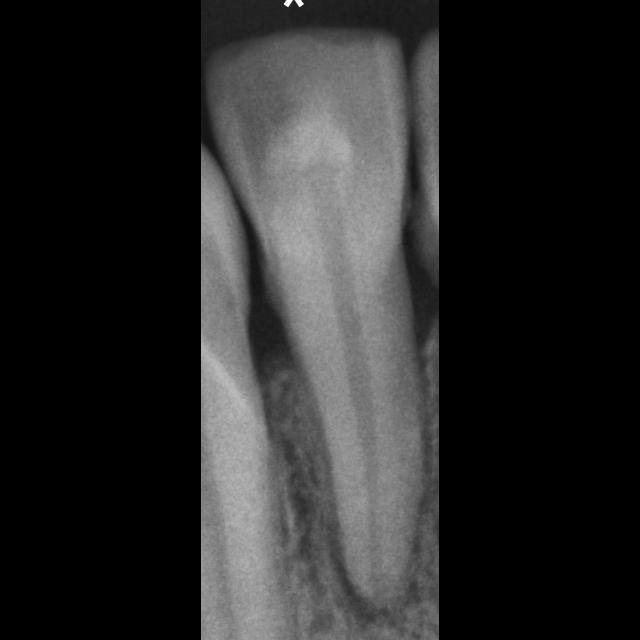tooth: (204, 26, 422, 609)
